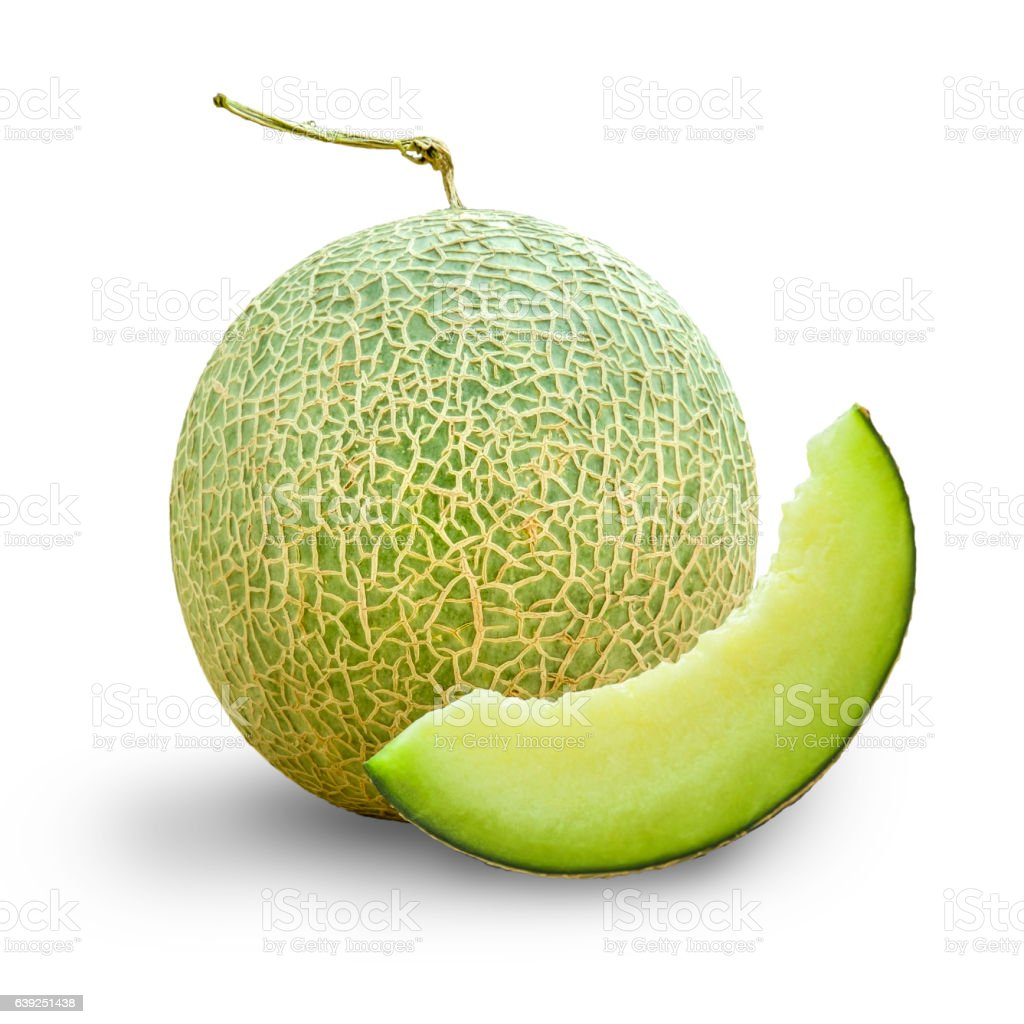Melon: (413, 363, 968, 913)
